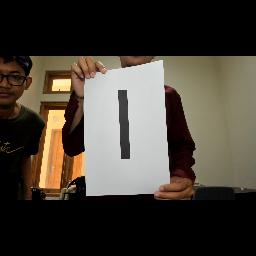i: (109, 80, 143, 172)
